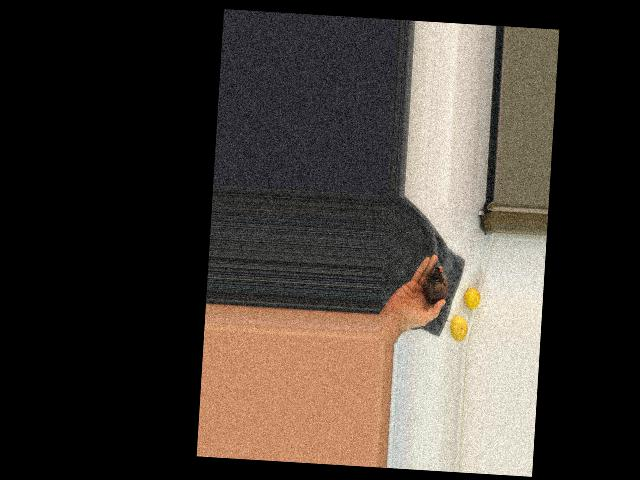beet: (421, 266, 452, 322)
